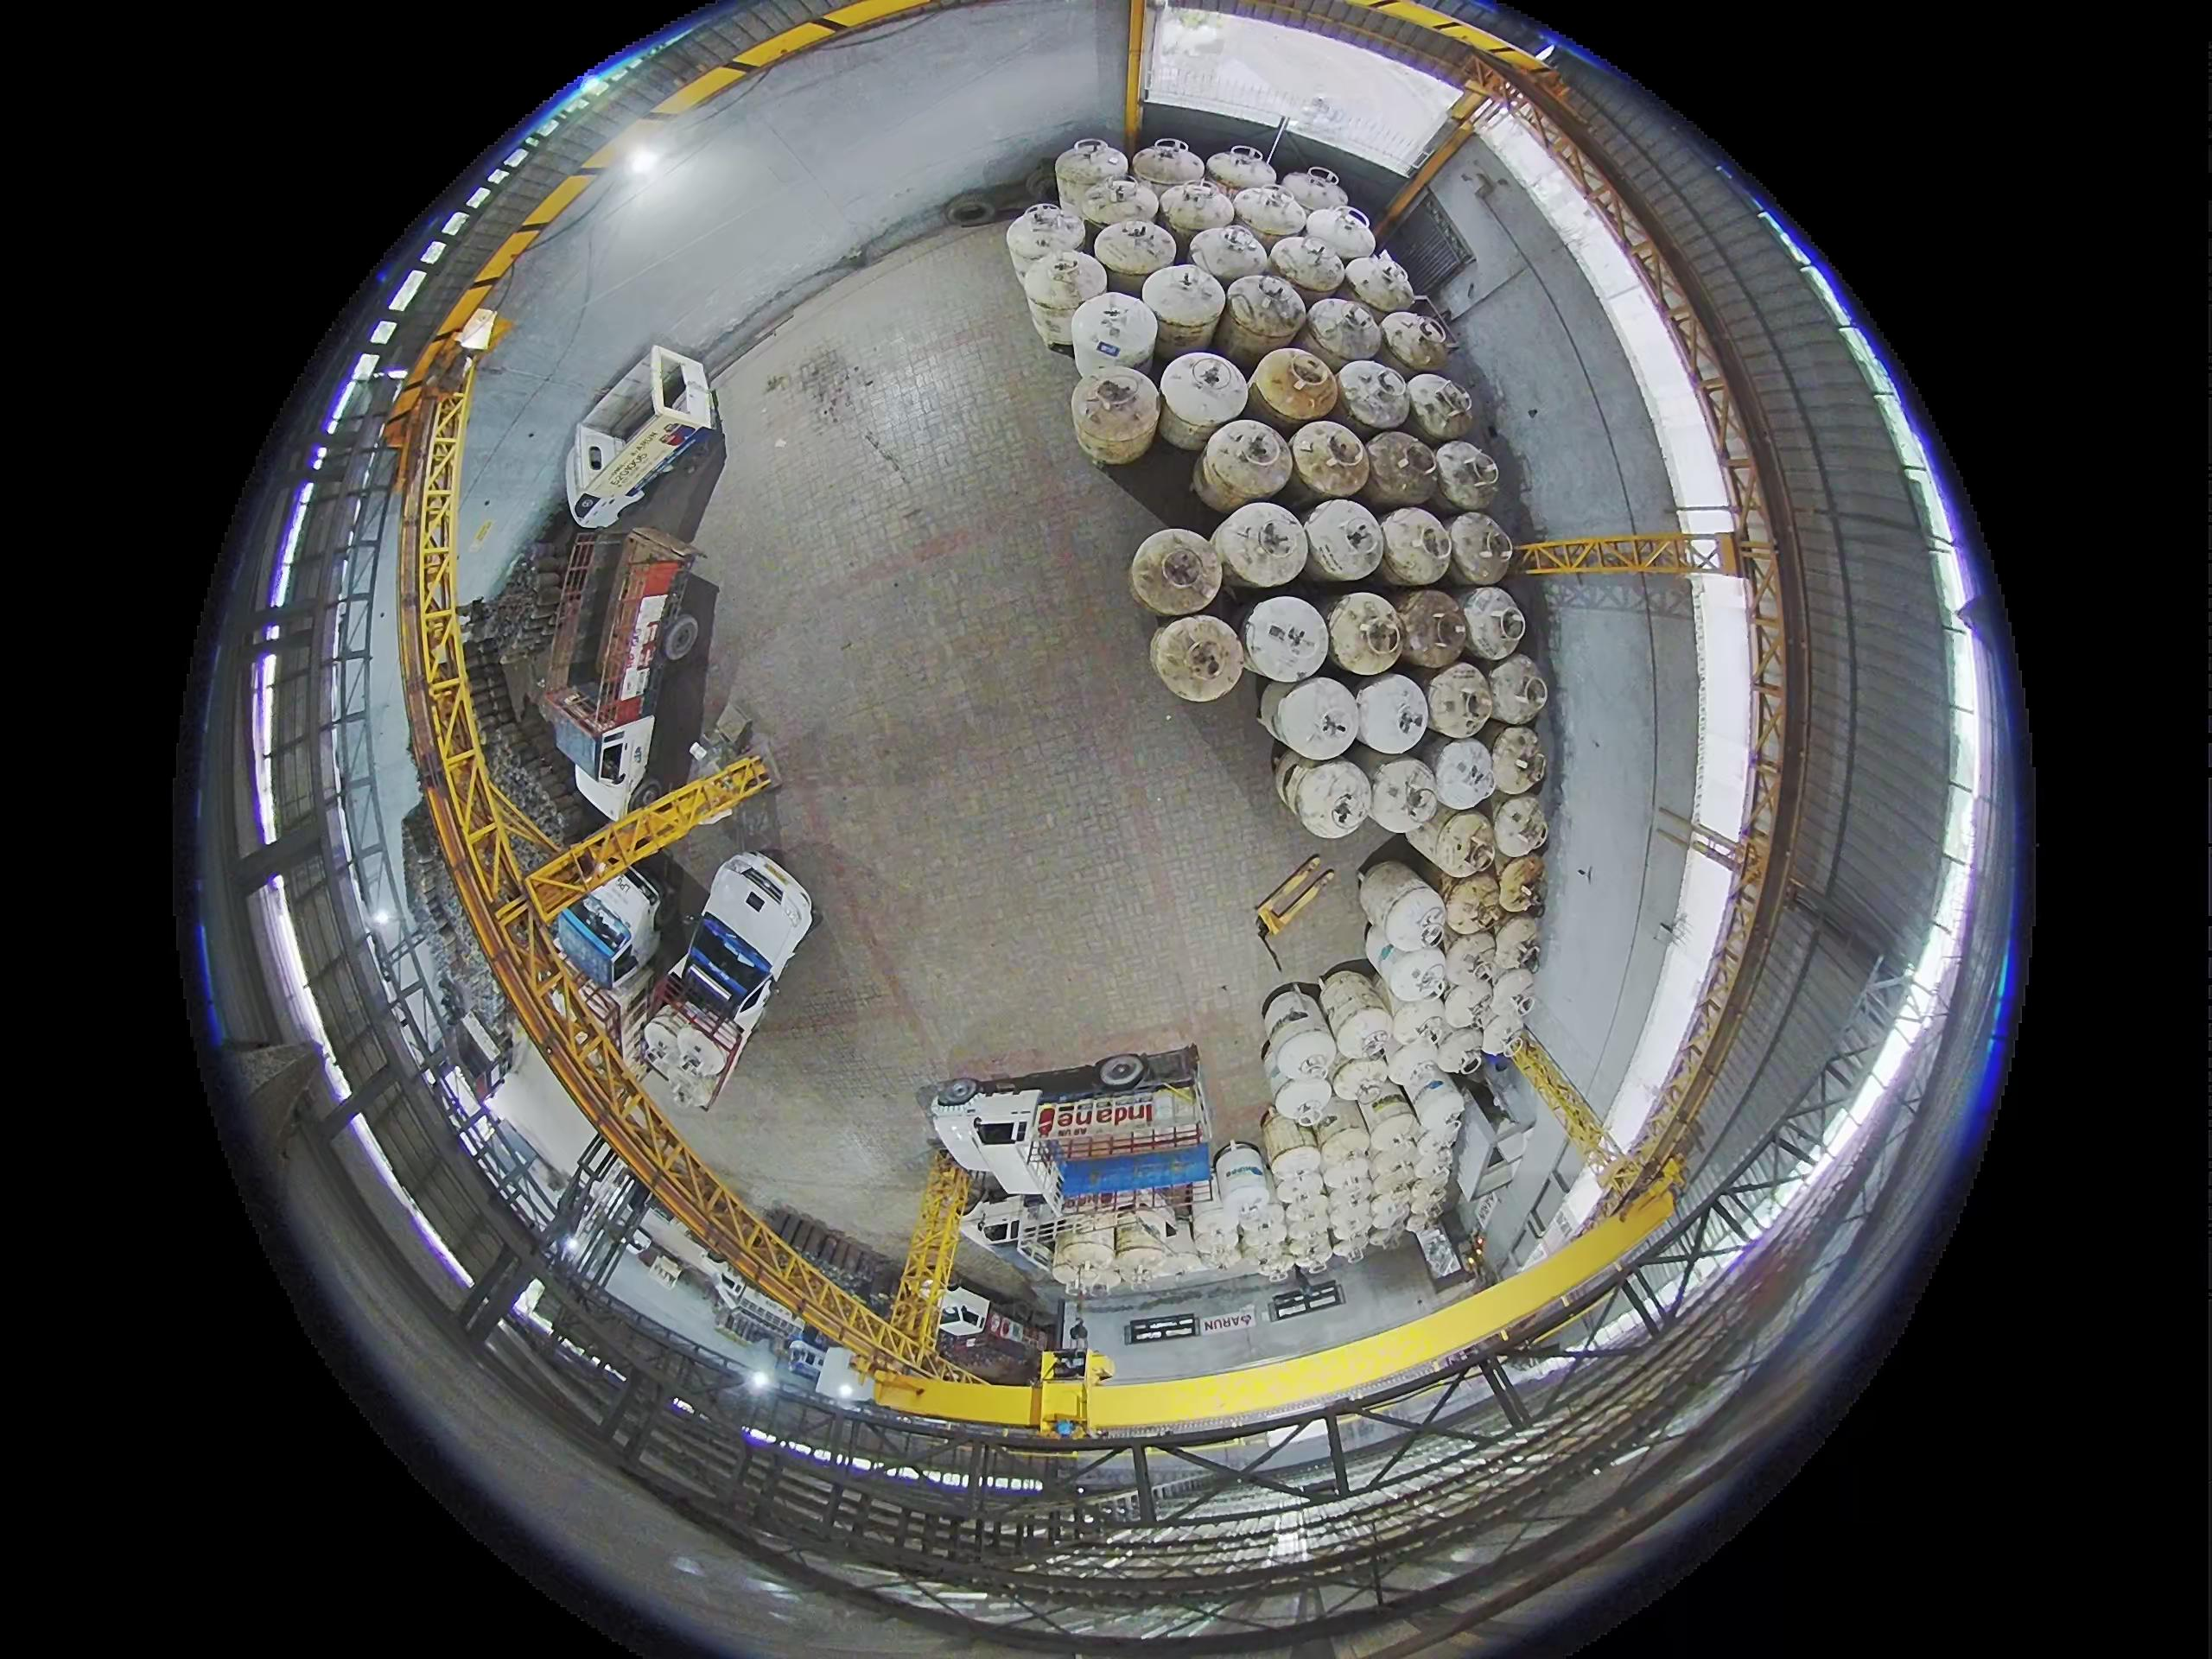cylinder: (1211, 502, 1305, 594), (1148, 615, 1244, 702), (1157, 354, 1247, 444), (1198, 418, 1291, 507), (1129, 528, 1221, 615), (1240, 594, 1329, 681), (1273, 676, 1364, 762), (1223, 272, 1308, 361), (1141, 263, 1224, 354), (1301, 498, 1385, 584), (1021, 251, 1094, 349), (1251, 347, 1338, 429), (1071, 376, 1151, 465), (1289, 420, 1372, 502), (1325, 592, 1407, 674), (1353, 673, 1432, 756), (1071, 293, 1150, 375), (1291, 760, 1372, 838), (1378, 507, 1456, 587), (1362, 432, 1440, 509), (1393, 589, 1468, 669), (1157, 179, 1237, 254), (1305, 295, 1383, 369), (1334, 359, 1411, 434), (1425, 662, 1498, 741), (1369, 758, 1442, 835), (1096, 216, 1174, 288), (1190, 221, 1271, 289), (1357, 859, 1433, 931), (1054, 139, 1122, 218), (1007, 206, 1078, 279), (1458, 586, 1527, 660), (1404, 373, 1475, 444), (1432, 439, 1501, 512), (1266, 232, 1345, 296), (1426, 805, 1496, 877), (1080, 178, 1151, 247), (1446, 511, 1514, 584), (1379, 310, 1454, 376), (1432, 737, 1498, 812), (1263, 1014, 1336, 1080), (1343, 251, 1418, 315), (1303, 204, 1378, 268), (1383, 885, 1449, 957), (1054, 1215, 1116, 1290), (1231, 185, 1308, 246), (1484, 655, 1550, 725), (1385, 1033, 1454, 1096), (1129, 138, 1204, 195), (1487, 725, 1548, 795), (1376, 945, 1446, 1006), (1411, 1079, 1472, 1147), (1444, 875, 1505, 941), (1193, 1197, 1252, 1263), (1442, 932, 1501, 997), (1491, 793, 1548, 859), (1212, 1140, 1270, 1206), (1207, 143, 1278, 195), (1332, 1006, 1395, 1065), (1259, 1107, 1322, 1164), (1306, 1094, 1371, 1150), (1261, 981, 1325, 1037), (1392, 1000, 1454, 1056), (1479, 1000, 1534, 1061), (1484, 967, 1540, 1028), (1273, 1072, 1336, 1126), (1318, 969, 1383, 1021), (1280, 167, 1348, 216), (1440, 974, 1498, 1032), (1366, 1115, 1421, 1175), (1258, 676, 1308, 741), (1426, 1023, 1484, 1077), (1113, 1213, 1170, 1267), (1496, 854, 1548, 913), (1493, 915, 1543, 974), (1413, 1126, 1461, 1187), (1332, 1054, 1390, 1105), (1146, 1244, 1214, 1286), (1271, 751, 1315, 816), (1233, 1201, 1285, 1251), (1325, 1190, 1374, 1244), (1282, 1206, 1331, 1258), (1364, 1194, 1413, 1243), (1162, 1218, 1207, 1269), (1404, 1183, 1451, 1229), (1324, 1157, 1371, 1201), (1364, 920, 1402, 972)
truck: (526, 359, 730, 838), (928, 1070, 1212, 1201), (563, 345, 718, 542), (688, 1249, 885, 1392), (963, 1195, 1123, 1293), (939, 1270, 1061, 1382)
